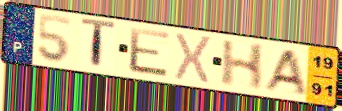5: (37, 11, 74, 65)
A: (260, 49, 309, 96)
E: (128, 26, 173, 80)
H: (219, 38, 268, 92)
T: (80, 16, 118, 73)
X: (172, 31, 214, 87)
